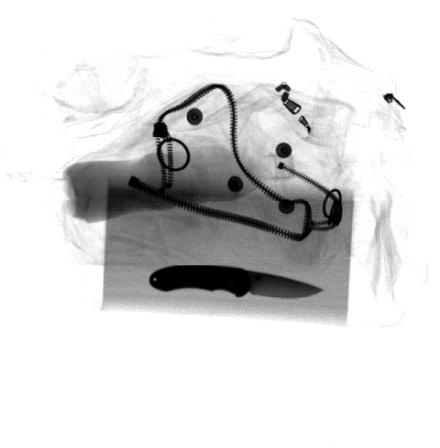Knife: (148, 264, 327, 300)
